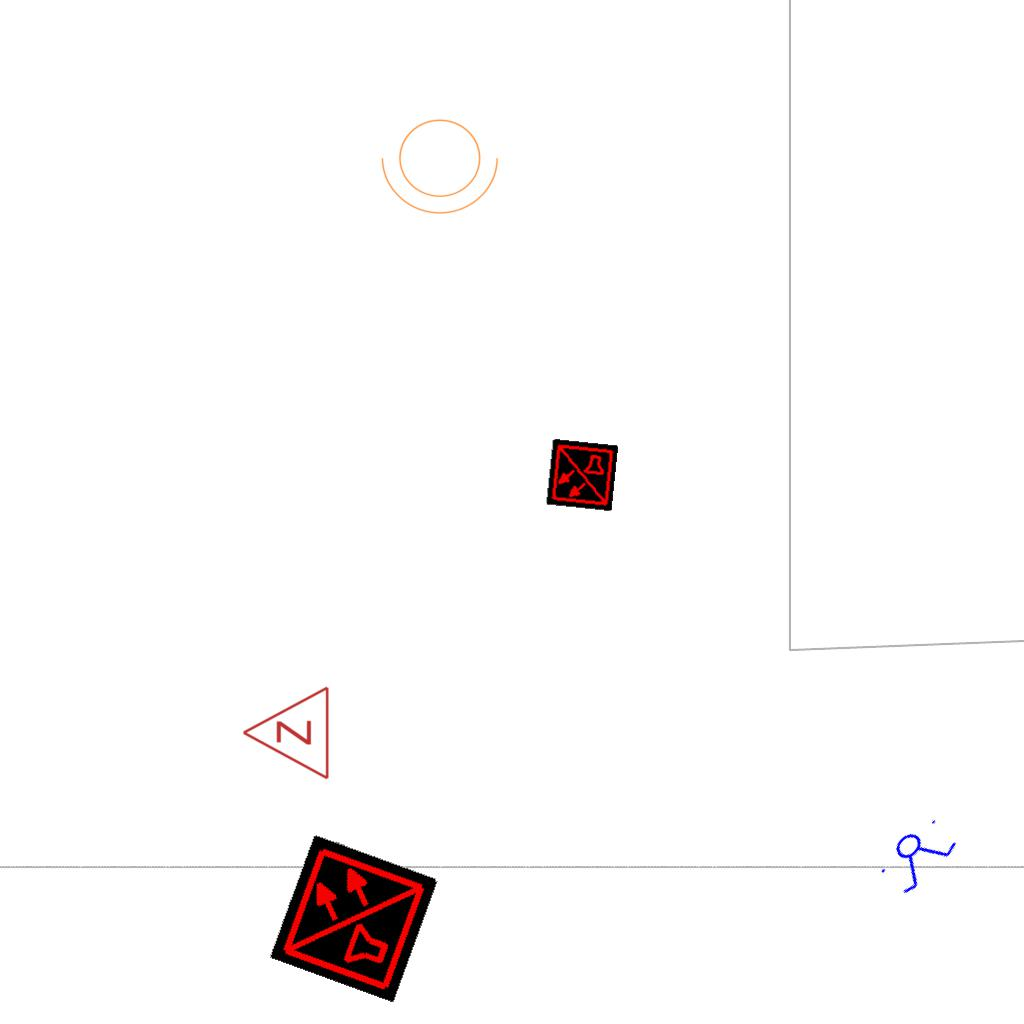OKW_Multisensormelder_(Kombination_optischer_Rauch-Kahlenmonoxid_Waerme-Melder): (269, 833, 439, 1003), (545, 438, 619, 512)
Scheinwerfer_fuer_Alarmbeleuchtung: (377, 107, 509, 219)
Serienschalter: (871, 808, 965, 902)
Zimmersignalleuchte: (236, 685, 336, 783)
